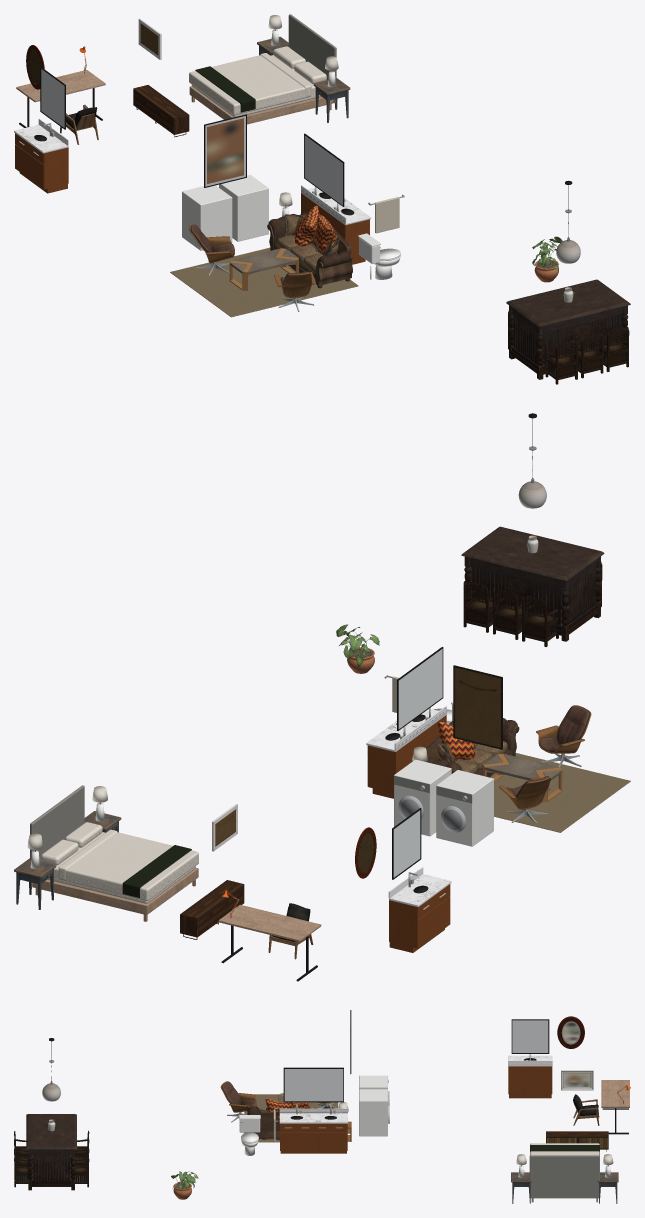
The model's file is furniture_east.glb.
The picture shows the model from 3 angles, top to bottom: view 1: azimuth 30°, elevation 25°; view 2: azimuth 150°, elevation 25°; view 3: azimuth 270°, elevation 25°; orthographic projection. The views are drawn at different scales.
Visible parts, largest first — view 1: gallinera_table, living_rug, duvet, sofa, gallinera_chair (×3), hanging_picture_frame_01, cabinet, cabinet.001, mid_century_lounge_chair (×2), mirror glass.001, modern_wooden_cabinet_body, headboard (+19 smaller); view 2: gallinera_table, duvet, living_rug, gallinera_chair (×3), hanging_picture_frame_01, mid_century_lounge_chair (×2), cabinet, mirror glass.001, cabinet.001, modern_wooden_cabinet_body, headboard, desk top (+12 smaller); view 3: gallinera_table, headboard, mirror glass.001, cabinet.001, carcass, mirror glass, desk top, hanging_picture_frame_03, sofa, mid_century_lounge_chair, hanging_picture_frame_02, top.001 (+16 smaller).
Boxes of the visible parts, bbox=[...] form: gallinera_table: bbox=[506, 279, 630, 379]; living_rug: bbox=[170, 247, 358, 317]; duvet: bbox=[189, 55, 310, 115]; sofa: bbox=[267, 212, 352, 288]; gallinera_chair (×3): bbox=[545, 327, 629, 384]; hanging_picture_frame_01: bbox=[204, 114, 246, 187]; cabinet: bbox=[182, 185, 232, 250]; cabinet.001: bbox=[219, 174, 268, 241]; mid_century_lounge_chair (×2): bbox=[189, 224, 315, 311]; mirror glass.001: bbox=[304, 135, 342, 205]; modern_wooden_cabinet_body: bbox=[133, 85, 189, 137]; headboard: bbox=[288, 14, 336, 103]; gallinera_table: bbox=[461, 526, 604, 641]; duvet: bbox=[59, 832, 198, 900]; living_rug: bbox=[490, 753, 630, 832]; gallinera_chair (×3): bbox=[463, 581, 558, 646]; hanging_picture_frame_01: bbox=[453, 665, 502, 749]; mid_century_lounge_chair (×2): bbox=[499, 705, 591, 823]; cabinet: bbox=[436, 770, 493, 846]; mirror glass.001: bbox=[398, 649, 442, 729]; cabinet.001: bbox=[394, 759, 451, 836]; modern_wooden_cabinet_body: bbox=[180, 880, 244, 939]; headboard: bbox=[30, 785, 84, 887]; desk top: bbox=[218, 904, 321, 941]; gallinera_table: bbox=[26, 1114, 76, 1190]; headboard: bbox=[529, 1155, 599, 1198]; mirror glass.001: bbox=[284, 1069, 343, 1101]; cabinet.001: bbox=[359, 1089, 387, 1136]; carcass: bbox=[508, 1066, 552, 1094]; mirror glass: bbox=[512, 1020, 548, 1052]; desk top: bbox=[601, 1080, 629, 1107]; hanging_picture_frame_03: bbox=[557, 1016, 584, 1048]; sofa: bbox=[247, 1106, 334, 1140]; mid_century_lounge_chair: bbox=[220, 1081, 256, 1122]; hanging_picture_frame_02: bbox=[561, 1070, 593, 1090]; top.001: bbox=[279, 1113, 347, 1123].
Size of the model in its own units: 6.66 by 3.61 by 14.99.
Materials: 48 (36 with a texture image).
